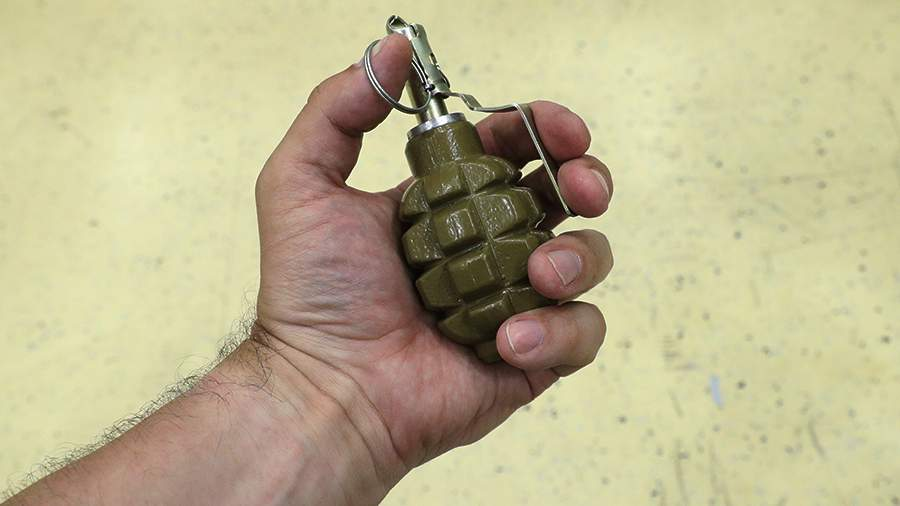F1: (367, 14, 579, 365)
